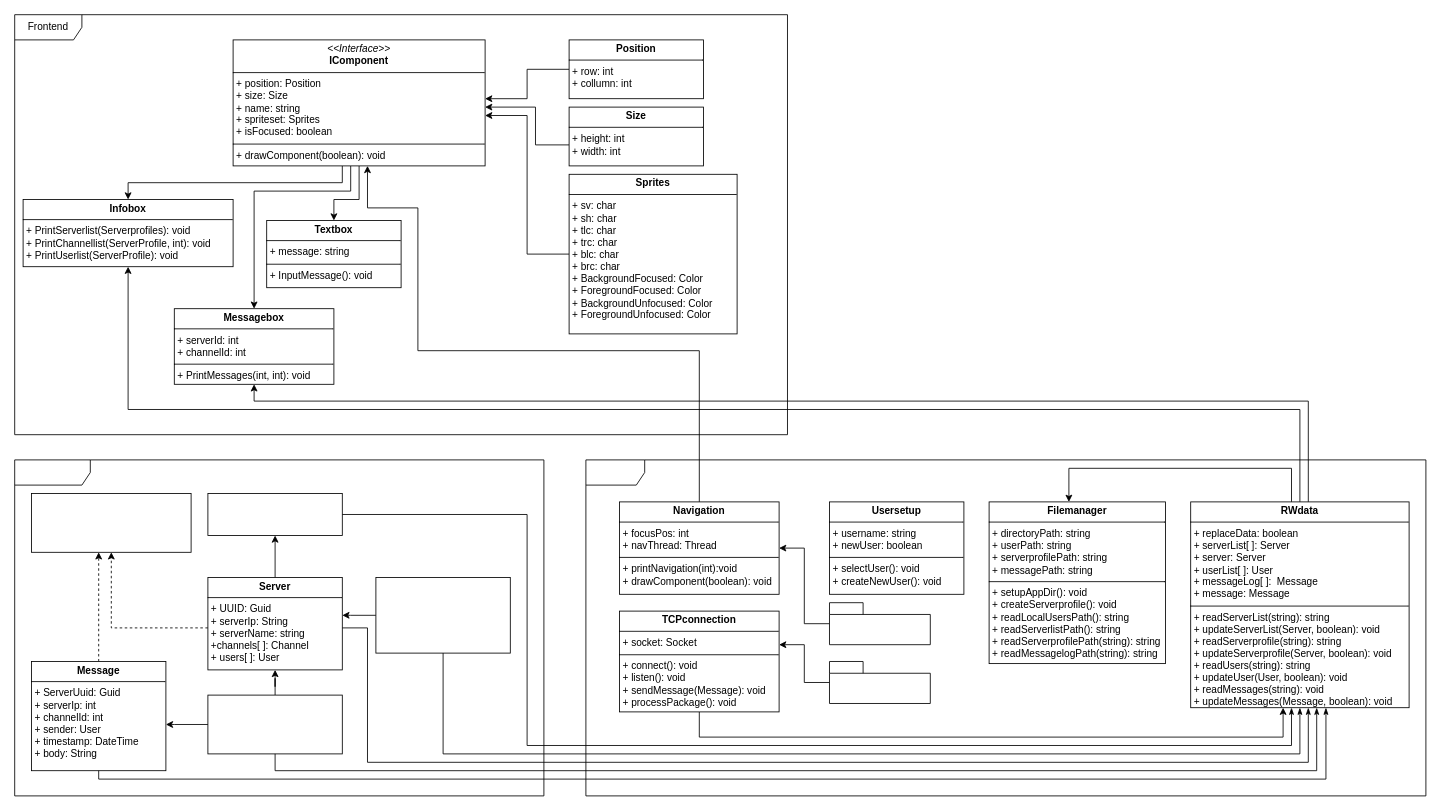
This 1441x811 diagram has some shape labels left out. The shapes that lost their labels are listed below. From the top down, each one's box as (x1, y1, x2, y2) in pixels, then its label:
(31, 493, 191, 552): <<Interface>> ISendable + ToJson(): string
(207, 493, 342, 536): ServerList + servers[ ]: Server
(14, 459, 544, 796): Dataclasses
(375, 577, 510, 653): Channel + channelId: int + channelName: string + channelDescription: string
(829, 602, 930, 645): System.Threading
(585, 459, 1426, 796): Controller
(829, 661, 930, 704): System.Net.Sockets
(207, 694, 342, 754): User + userName: string + userJoinDate: DateTime
